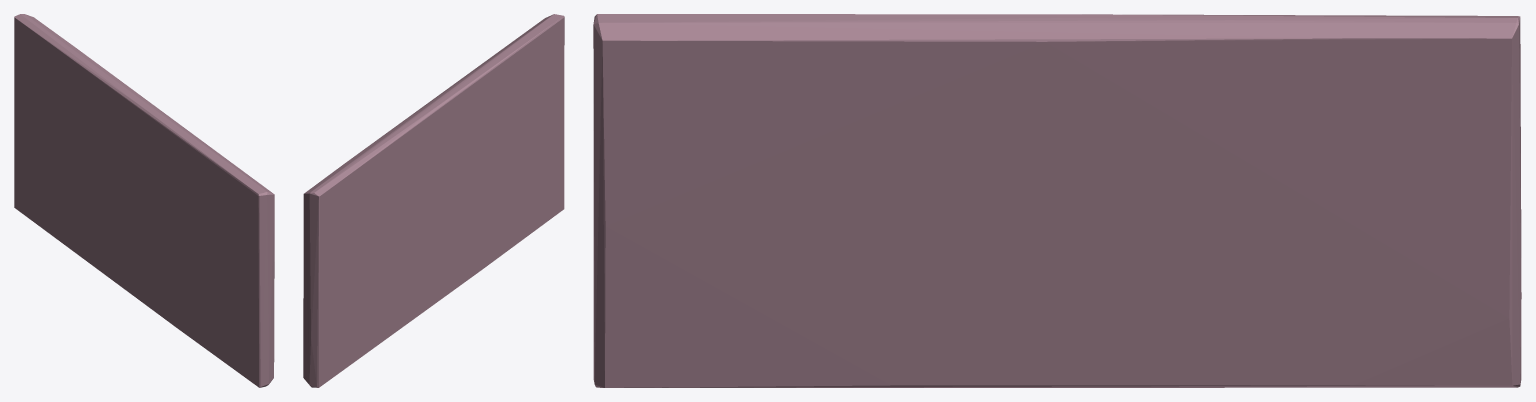
Rendered from food_processed_chocolate_g01.glb.
The picture shows the model from 3 angles, left to right: view 1: azimuth 30°, elevation 25°; view 2: azimuth 150°, elevation 25°; view 3: azimuth 270°, elevation 25°; orthographic projection. The views are drawn at different scales.
Parts seen in each view (by area): view 1: geometry_0; view 2: geometry_0; view 3: geometry_0.
Part boxes in pixels (<box>): geometry_0: <box>14,14,274,387</box>; geometry_0: <box>303,14,564,387</box>; geometry_0: <box>593,14,1521,387</box>.
Size of the model in its own units: 0.021 by 0.21 by 0.48.
